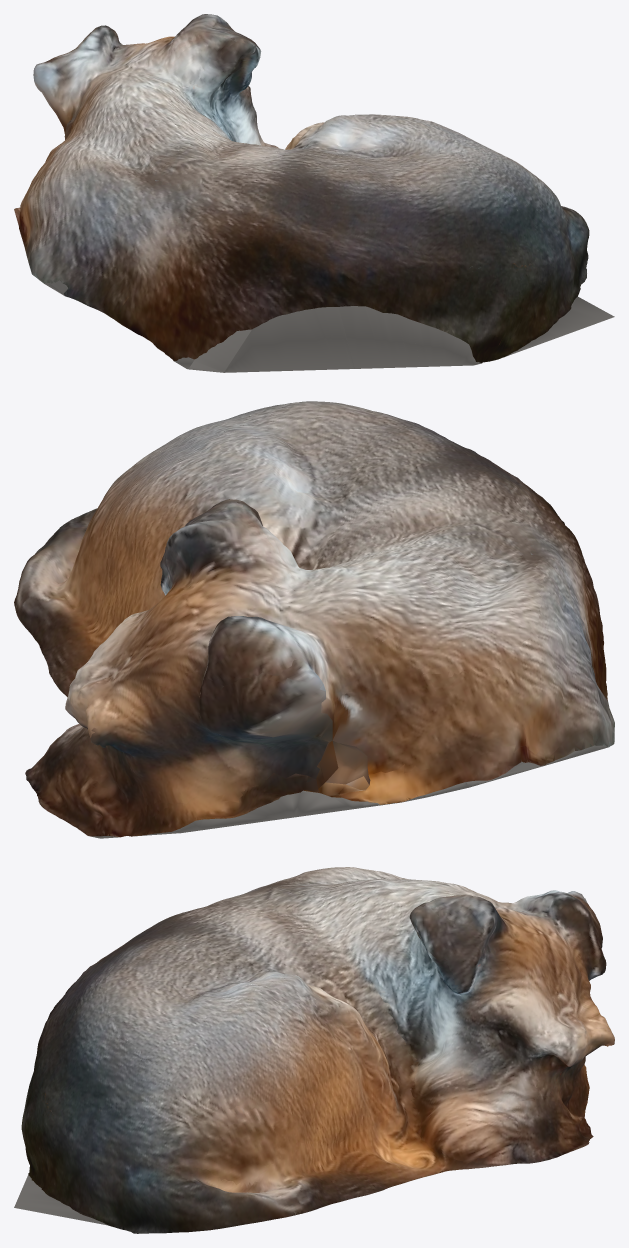
The model's file is asset.gltf.
The picture shows the model from 3 angles, top to bottom: view 1: azimuth 30°, elevation 25°; view 2: azimuth 150°, elevation 25°; view 3: azimuth 270°, elevation 25°; orthographic projection. The views are drawn at different scales.
Parts seen in each view (by area): view 1: Object_2; view 2: Object_2; view 3: Object_2.
Boxes of the visible parts, <box> form: Object_2: <box>14,14,614,372</box>; Object_2: <box>14,401,614,838</box>; Object_2: <box>14,867,614,1233</box>.
Bounding box in the file's own units: 11.09 × 4.6 × 10.99.
1 material, 1 textured.
